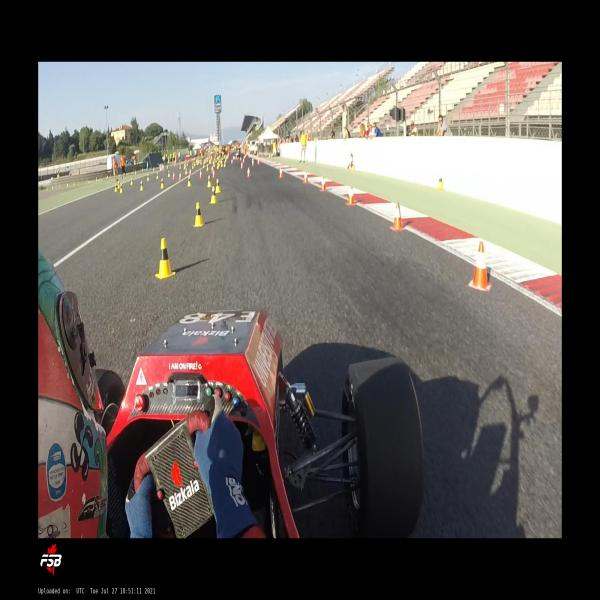orange_cone: (468, 242, 492, 292), (390, 200, 404, 232), (346, 184, 355, 206), (320, 175, 326, 192), (302, 170, 308, 184), (278, 167, 283, 178), (246, 167, 251, 177), (212, 168, 216, 178), (198, 169, 202, 179), (178, 171, 182, 180), (172, 172, 175, 180), (189, 168, 191, 176), (252, 160, 254, 166), (241, 162, 242, 169)
yellow_cone: (155, 238, 175, 280), (193, 202, 203, 227), (209, 186, 217, 204), (215, 178, 221, 193), (437, 174, 443, 189), (206, 175, 212, 187), (187, 175, 192, 187), (140, 180, 144, 191), (160, 178, 164, 189), (114, 183, 117, 192), (167, 169, 170, 177), (130, 177, 133, 185), (146, 174, 149, 181), (120, 183, 122, 193), (118, 180, 120, 189), (206, 165, 209, 171), (156, 172, 158, 180), (185, 167, 187, 174), (217, 162, 219, 169), (221, 161, 223, 167), (224, 161, 225, 167), (219, 161, 220, 166)
